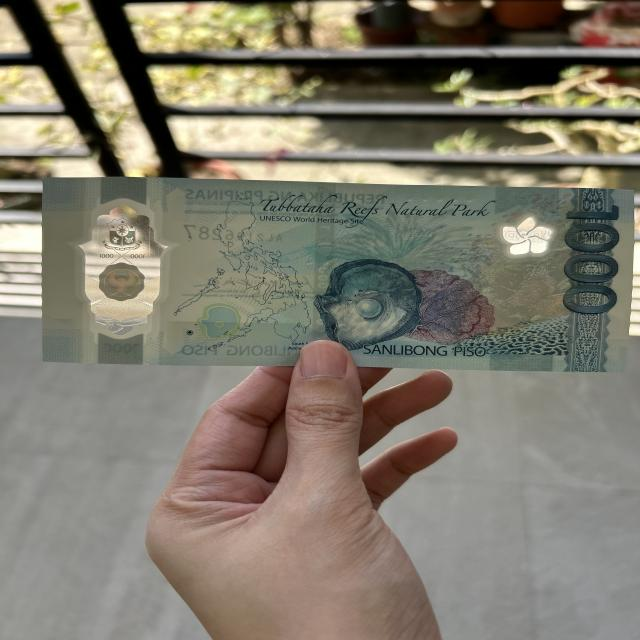clear_window: (78, 199, 162, 336)
sampaguita: (499, 217, 553, 260)
value: (565, 205, 621, 312)
